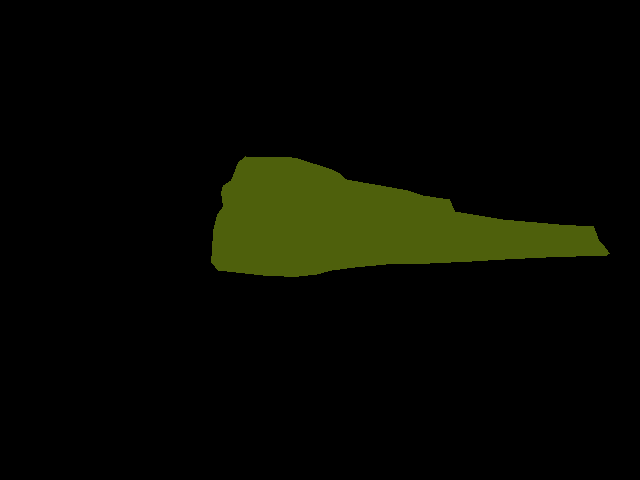Train: (211, 156, 610, 276)
